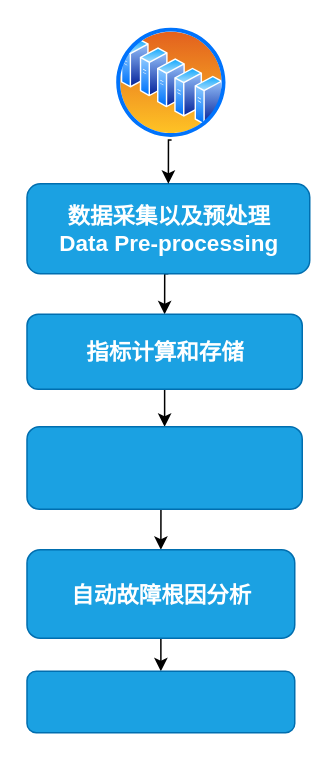
This 336x759 diagram has some shape labels left out. Each missing label, with the box of its shape:
指标劣化分析: (26, 425, 302, 509)
故障告警: (26, 670, 295, 733)
